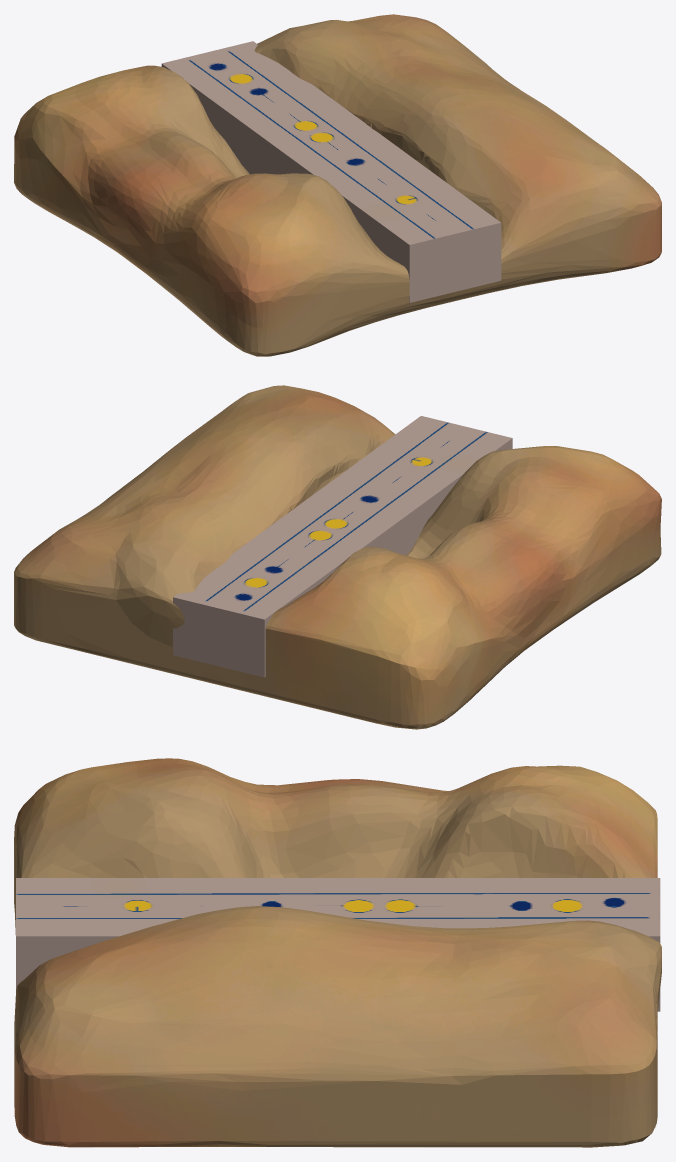
Rendered from trench ling.fbx.
3 views of the same model, one above another, from view 1: azimuth 30°, elevation 25°; view 2: azimuth 150°, elevation 25°; view 3: azimuth 270°, elevation 25° (orthographic). The views are drawn at different scales.
Parts seen in each view (by area): view 1: node_id3, root; view 2: node_id3, root; view 3: node_id3, root.
Boxes of the visible parts, x1,y1,x2,y2 form: node_id3: (14,14,661,356); root: (161,41,501,302); node_id3: (14,385,661,729); root: (173,416,512,677); node_id3: (14,758,661,1147); root: (16,878,660,1011).
Bounding box in the file's own units: 0.512 × 0.1438 × 0.5159.
2 materials, 2 textured.
